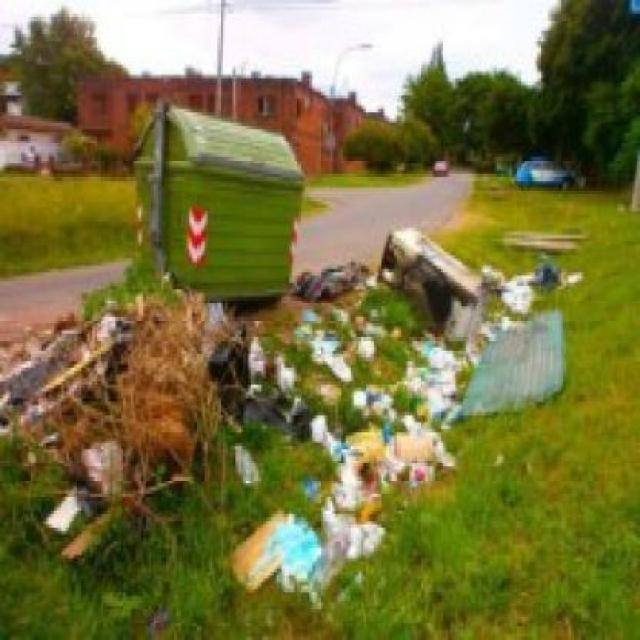garbage: (293, 300, 462, 436), (220, 491, 382, 600), (294, 395, 450, 477), (474, 252, 571, 316)
